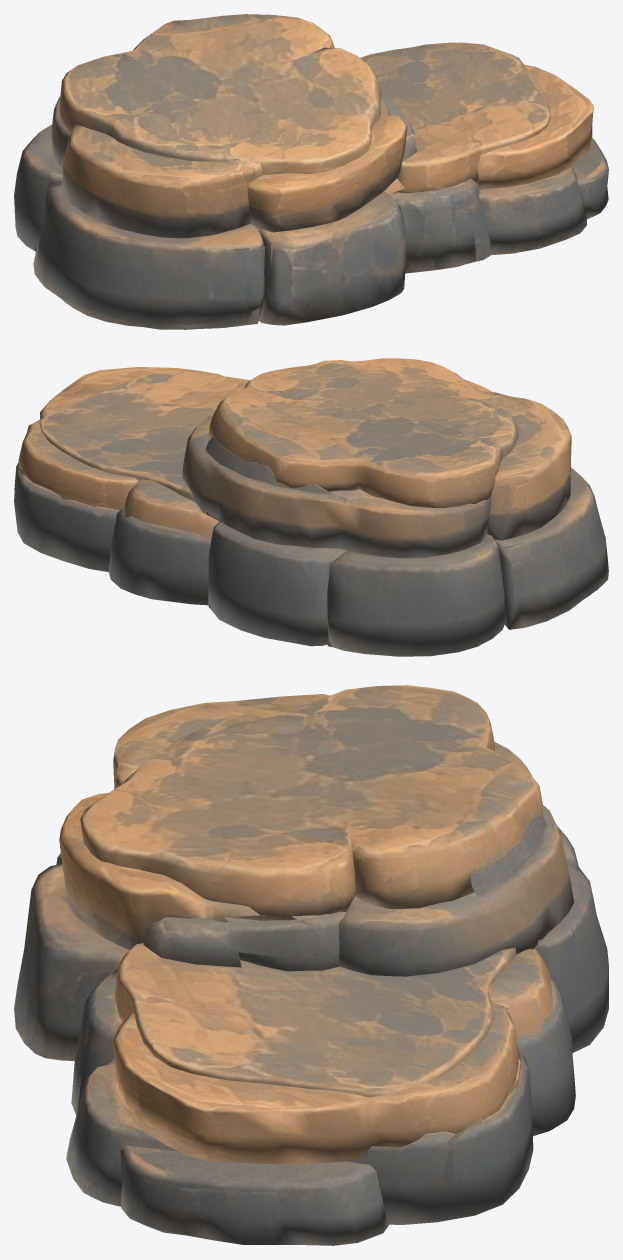
Rendered from Afloramento.glb.
The picture shows the model from 3 angles, top to bottom: view 1: azimuth 30°, elevation 25°; view 2: azimuth 150°, elevation 25°; view 3: azimuth 270°, elevation 25°; orthographic projection. The views are drawn at different scales.
Size of the model in its own units: 1 by 0.2979 by 0.668.
Materials: 1 (1 with a texture image).
